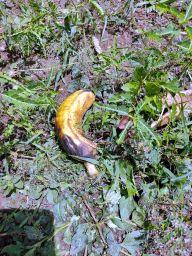banana: (51, 85, 103, 179)
